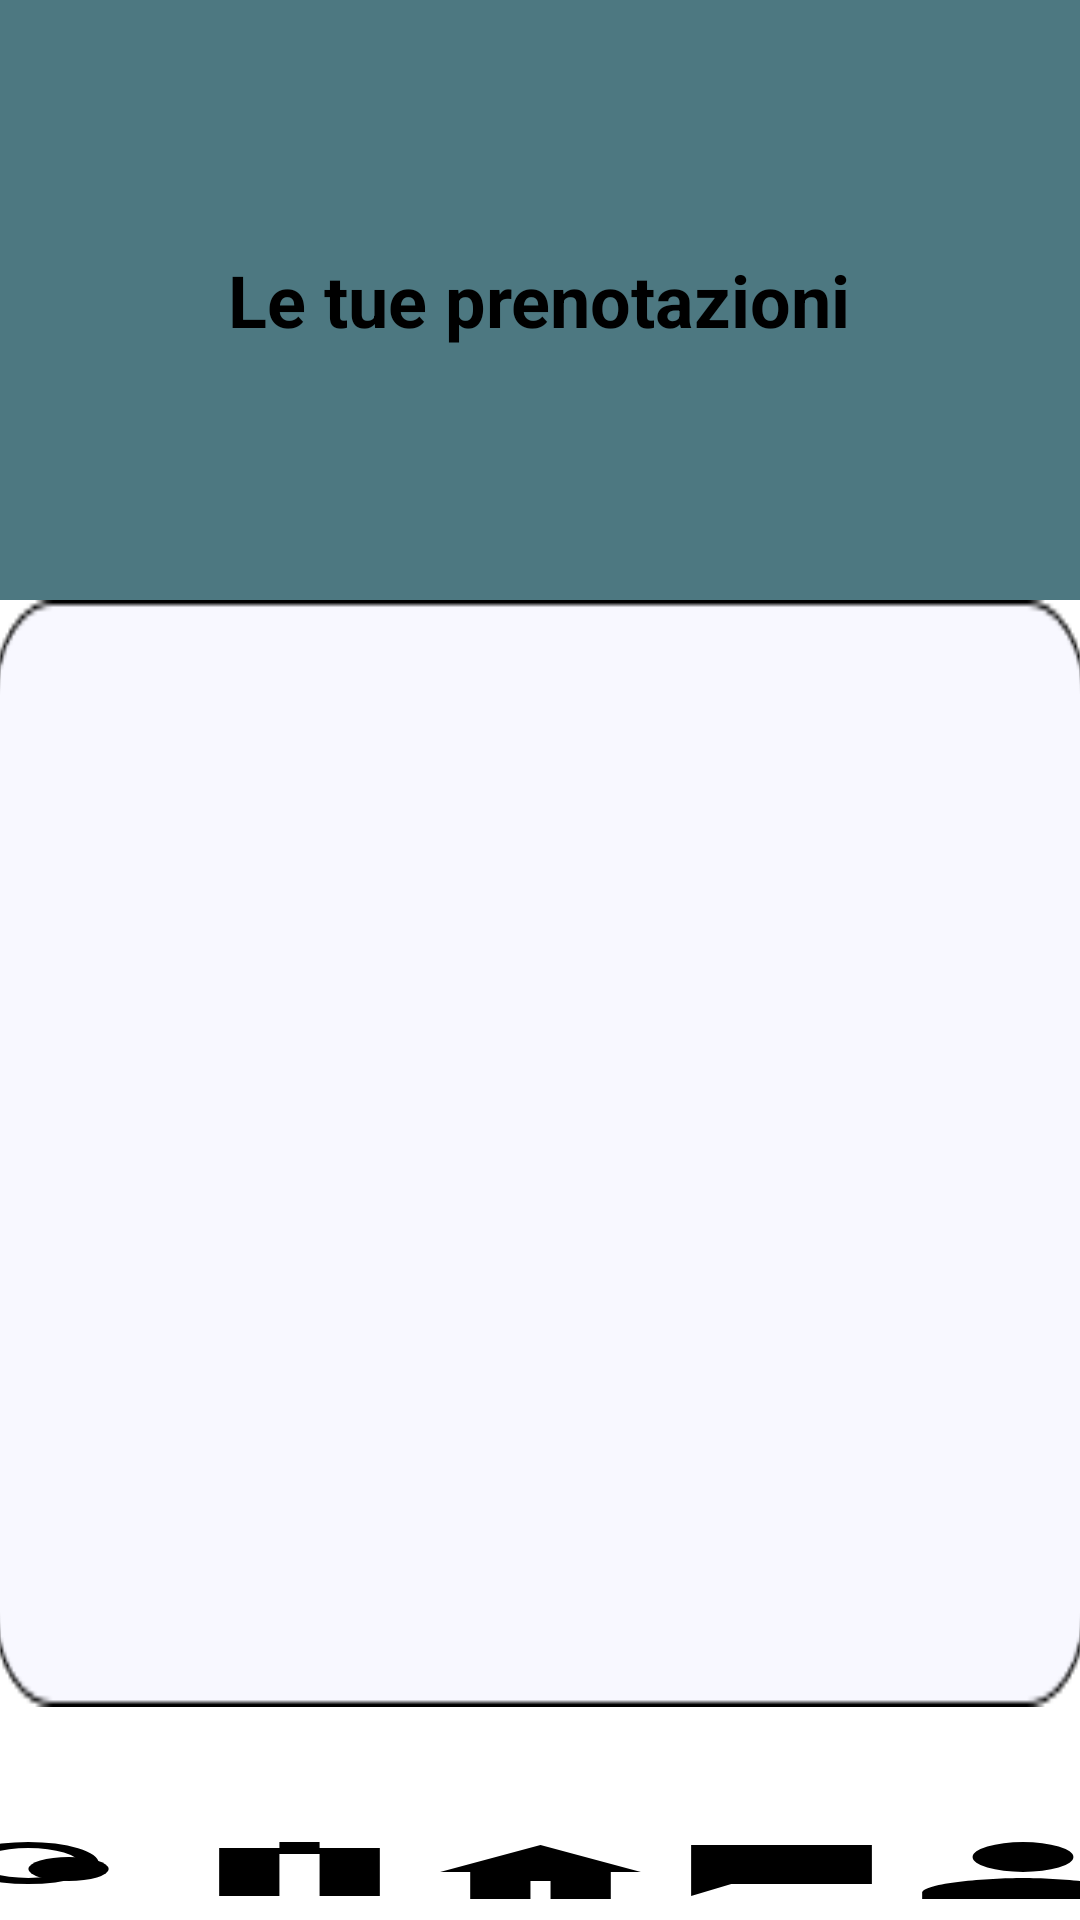

Screen size 1080 x 1920. Icon name, then its center in pixels as (x,y):
chat: (781,1870)
home: (540,1872)
